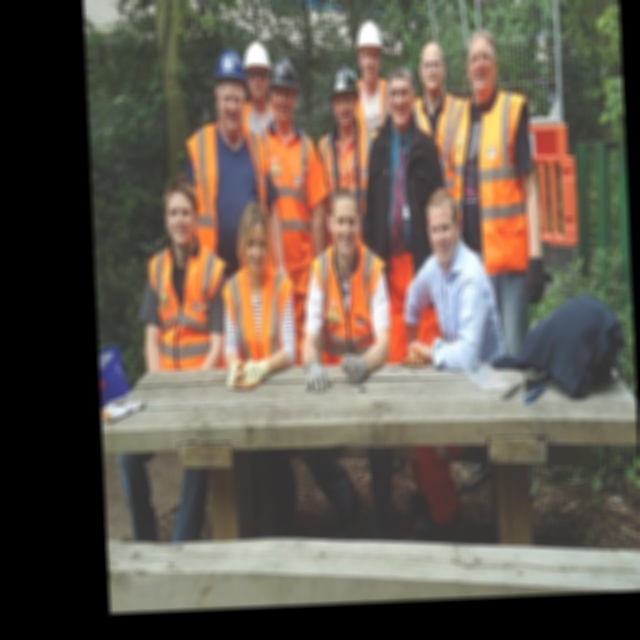Con_Chaleco: (453, 92, 533, 268), (145, 247, 229, 373), (315, 240, 387, 362), (224, 259, 297, 372)
